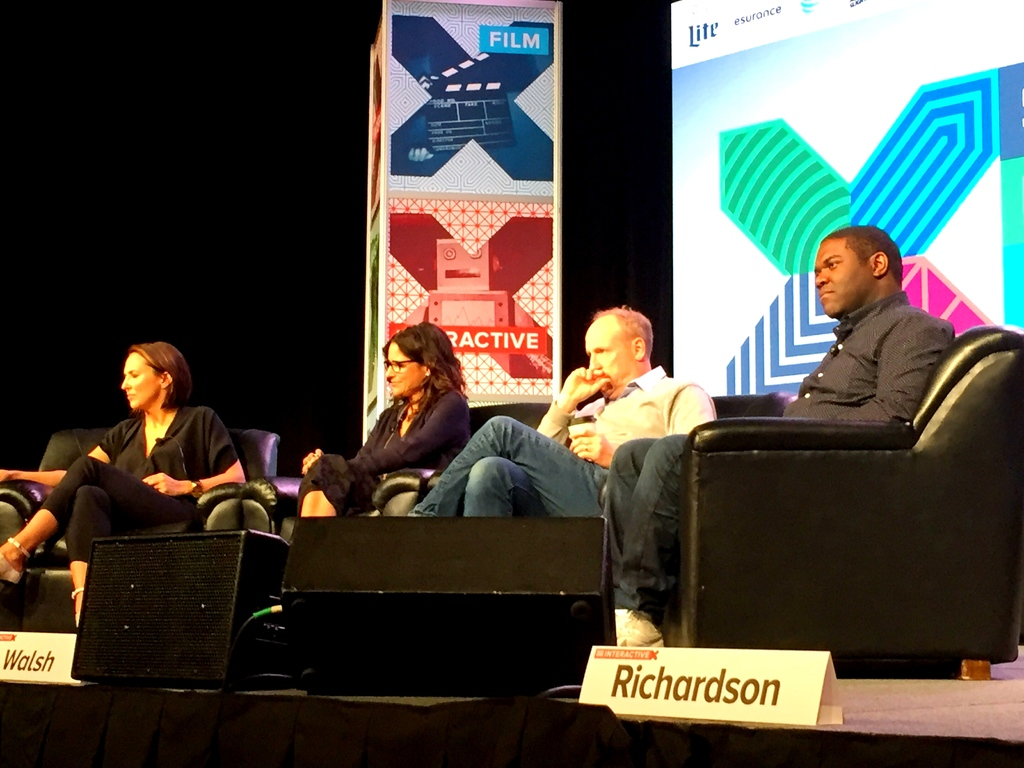Chair: (654, 308, 1009, 686), (0, 429, 285, 636), (245, 399, 557, 564), (712, 390, 801, 419)
